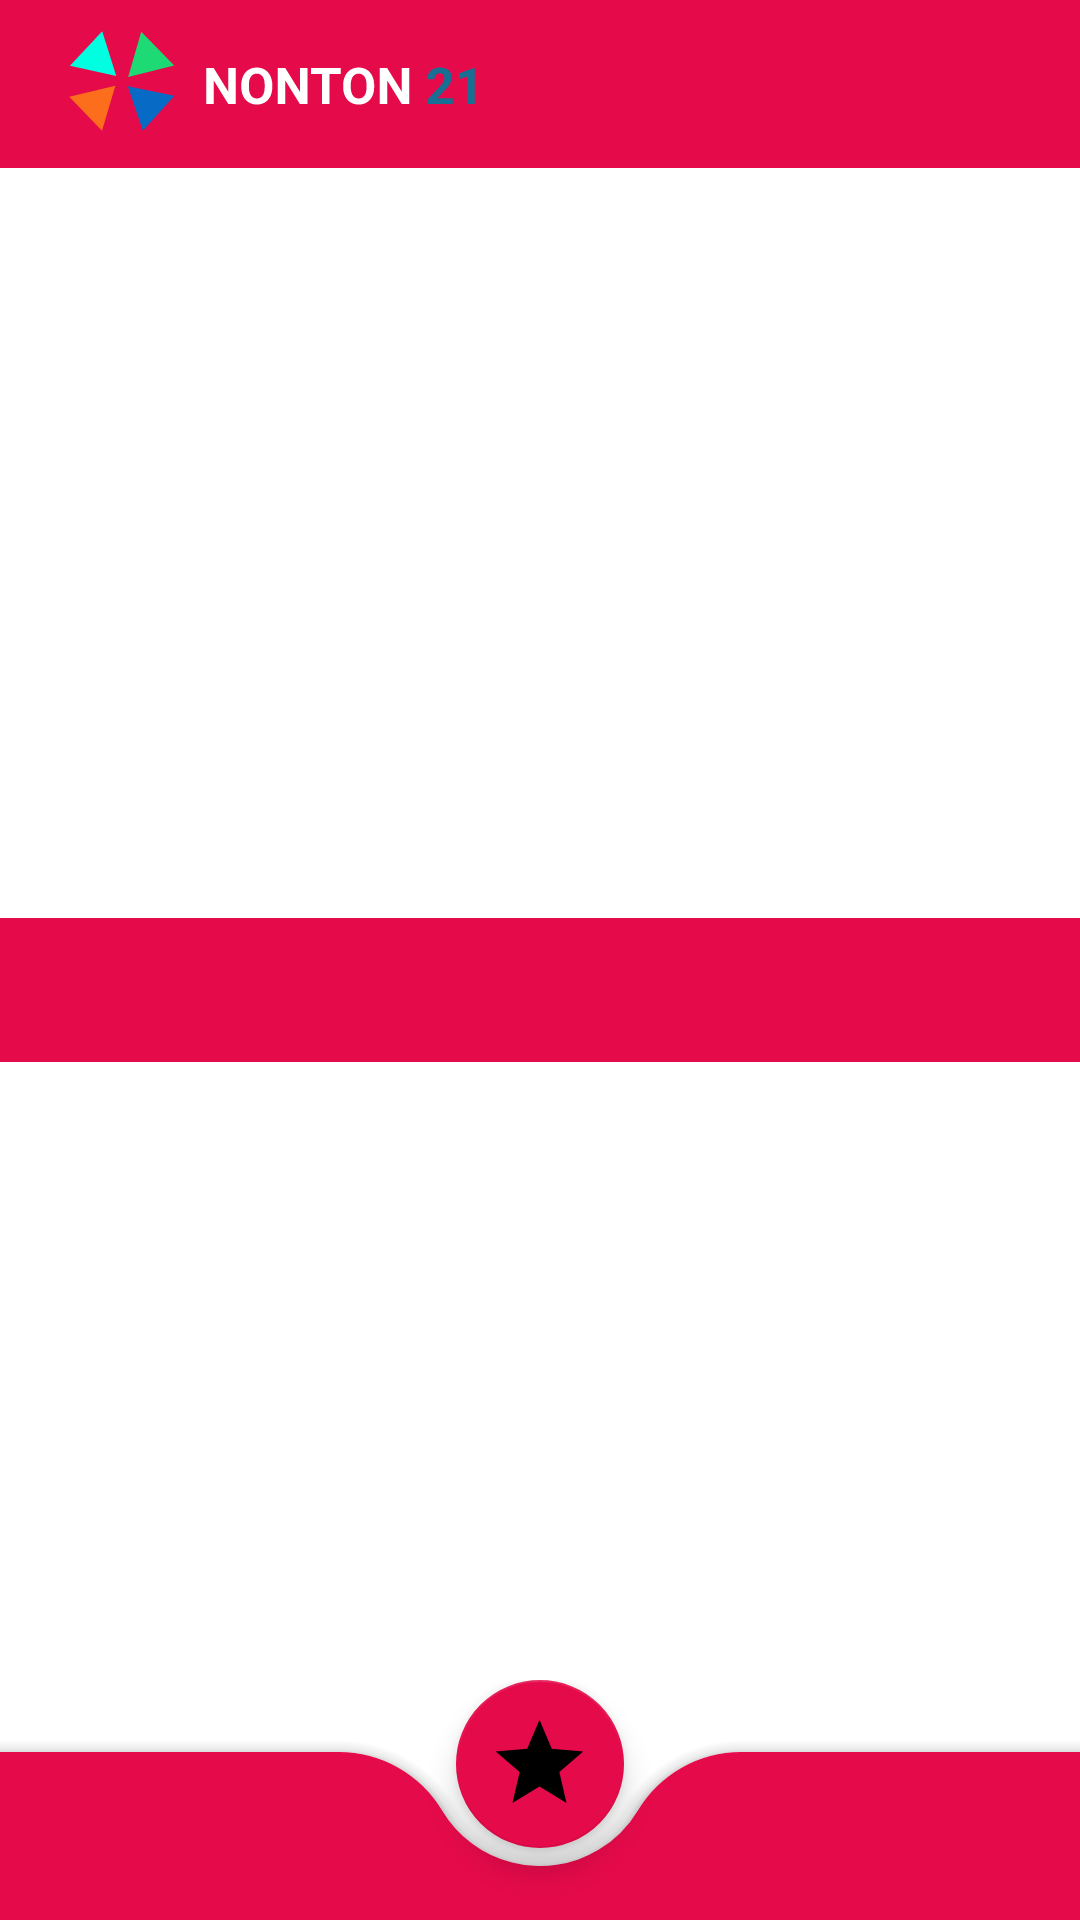

Icon click points for this 1080w x 1920h phone screenshot, format [x,y]:
star: [540,1764]
